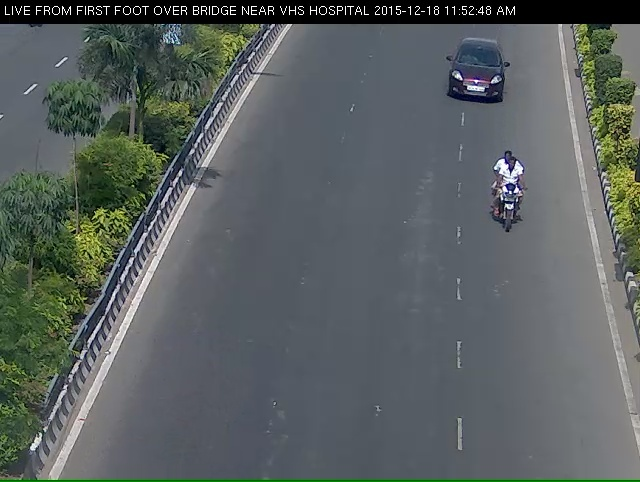Car: (443, 44, 515, 113)
Person: (489, 165, 534, 256)
